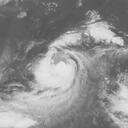cyclone: (31, 48, 89, 90)
